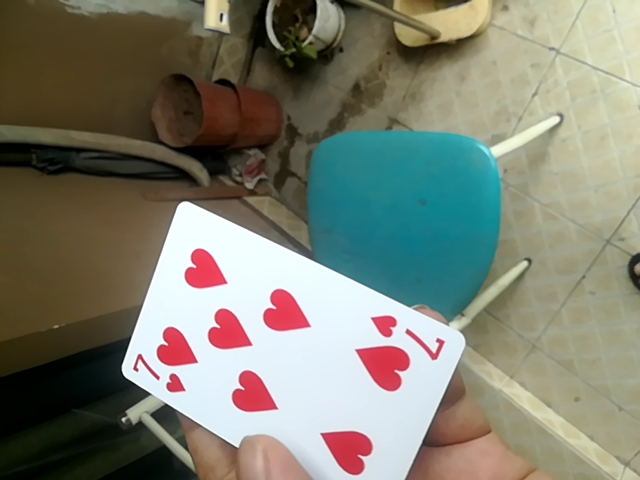hx 7: (122, 197, 470, 477)
